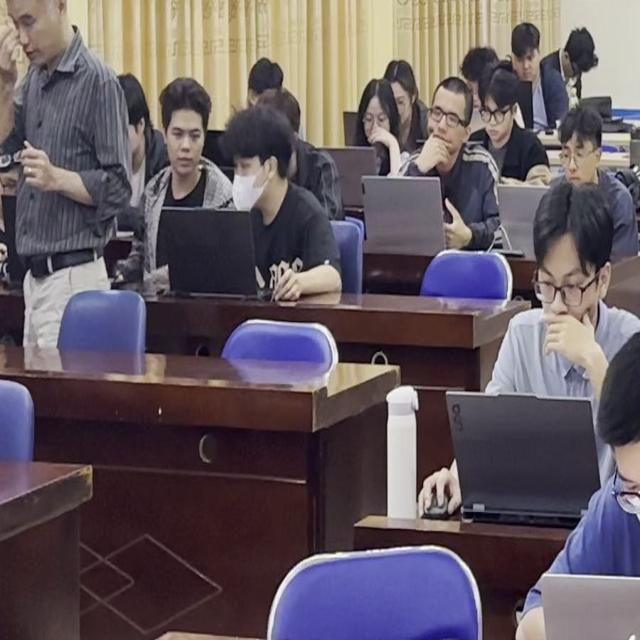Looking away: (534, 185, 598, 336), (231, 106, 286, 202), (6, 1, 72, 68), (167, 74, 210, 172), (428, 76, 472, 162), (554, 110, 604, 183), (360, 80, 401, 140), (482, 72, 516, 138), (508, 24, 542, 80)
